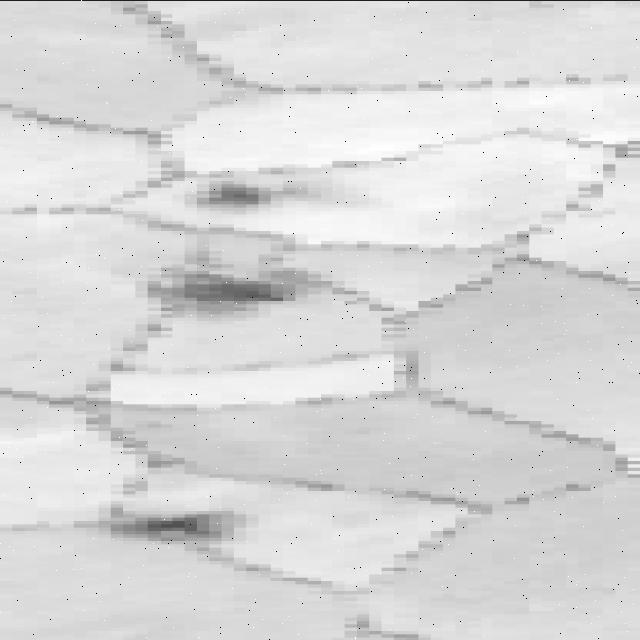good_void: (110, 261, 347, 325), (72, 496, 266, 556), (196, 183, 286, 206)
